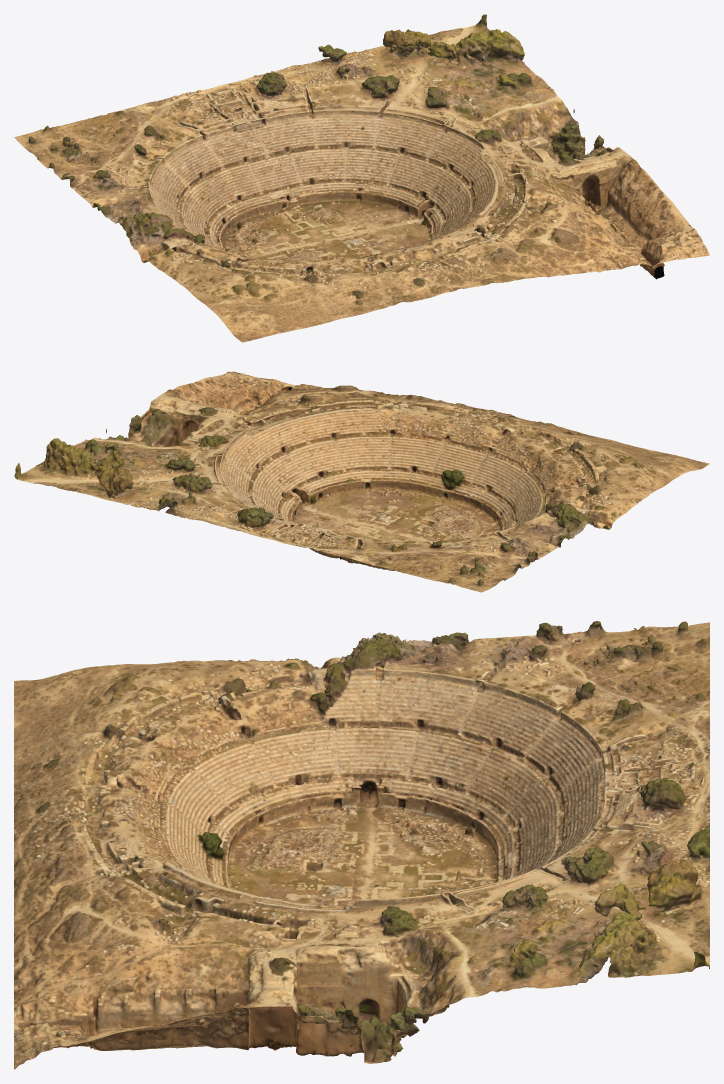
3 views of the same model, one above another, from view 1: azimuth 30°, elevation 25°; view 2: azimuth 150°, elevation 25°; view 3: azimuth 270°, elevation 25° (orthographic). The views are drawn at different scales.
Visible parts, largest first — view 1: LBY_002_M3_Amphitheatre; view 2: LBY_002_M3_Amphitheatre; view 3: LBY_002_M3_Amphitheatre.
Part boxes in pixels (x1,y1,x2,y2): LBY_002_M3_Amphitheatre: (14, 14, 709, 342); LBY_002_M3_Amphitheatre: (14, 371, 709, 592); LBY_002_M3_Amphitheatre: (14, 621, 709, 1069).
Bounding box in the file's own units: 144 × 29.82 × 122.
1 material, 1 textured.
